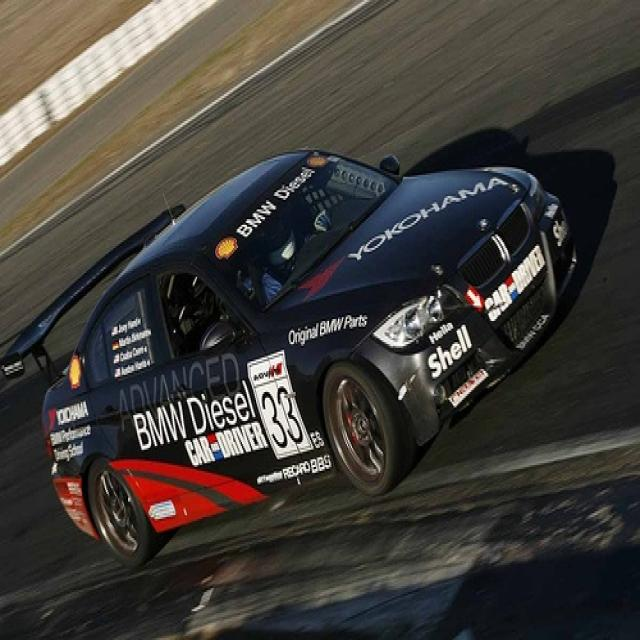car: (4, 148, 582, 573)
